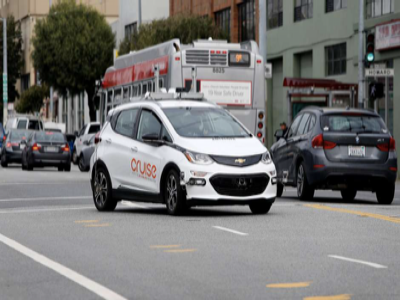licence: (347, 146, 367, 158)
